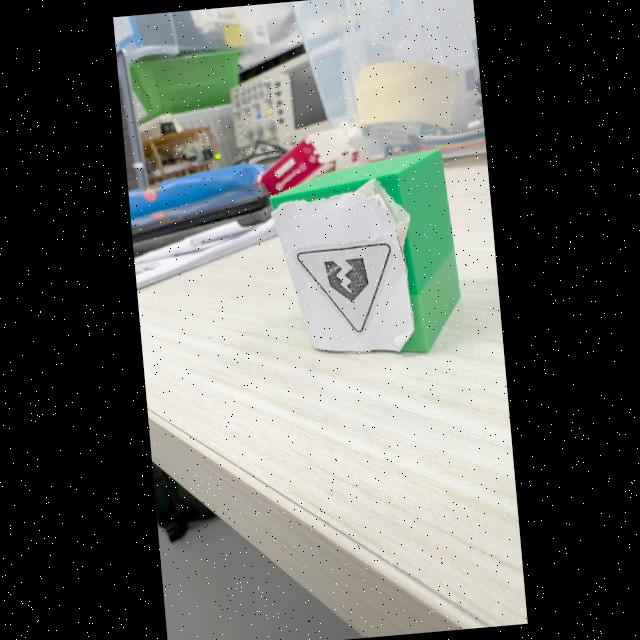Earthquake: (296, 241, 393, 333)
